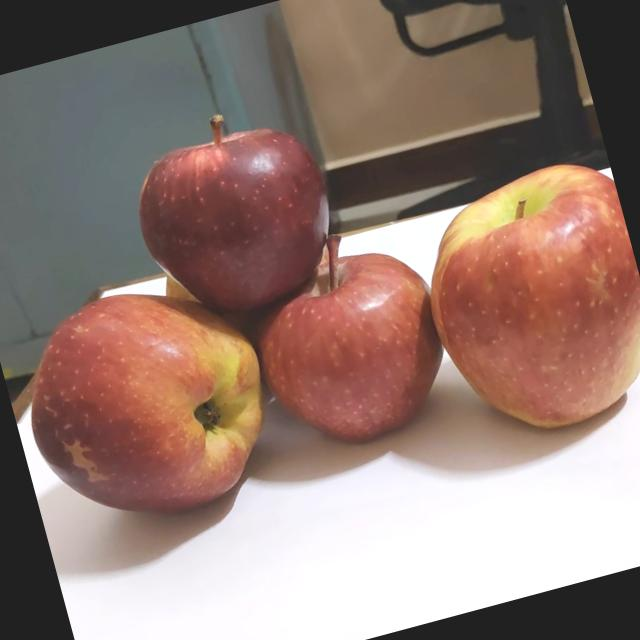apple: (2, 256, 300, 552), (402, 147, 640, 459), (112, 88, 359, 338), (233, 210, 473, 467), (148, 250, 221, 323)
